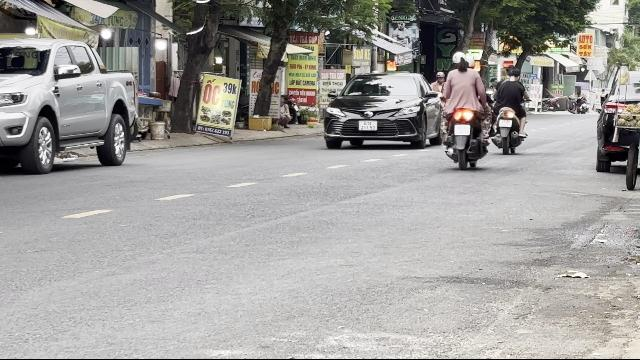helmet: (450, 51, 468, 69)
licenseplate: (454, 124, 470, 136)
motorcyclist: (438, 49, 490, 168)
